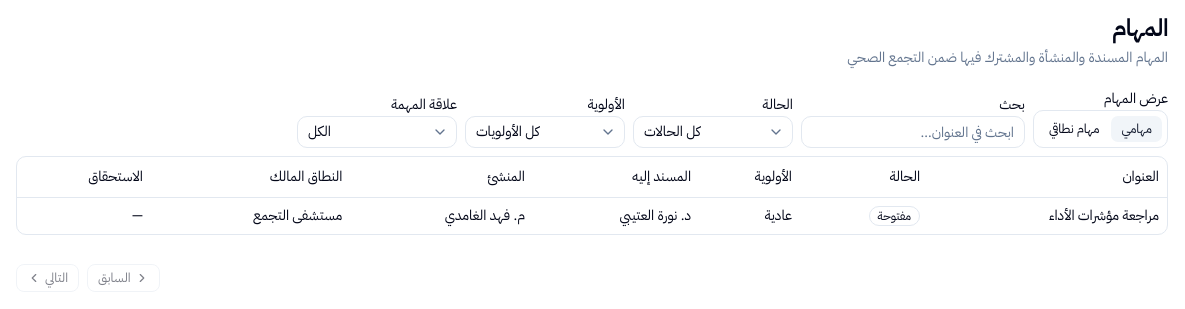
Test: TasksScreen › requests the selected named scope without relationship filters and exposes labels instead of UUIDs
Click the button "مهام نطاقي": click(1074, 129) [1038,115,1110,143]
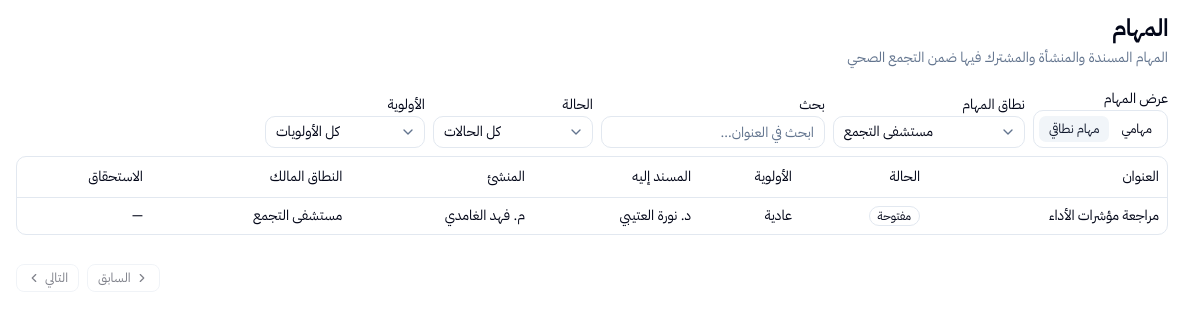
Now the dropdown named "نطاق المهام" reads "مستشفى التجمع"
Click the dropdown named "نطاق المهام": click(929, 132) [833,116,1025,148]
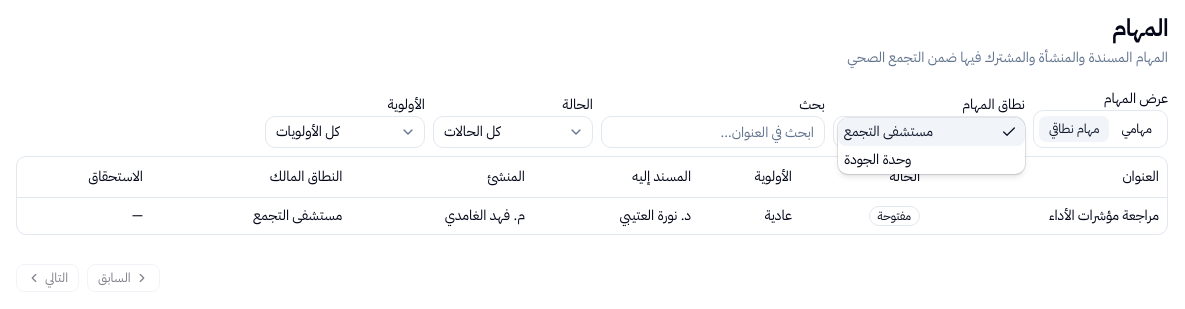
Now the option "وحدة الجودة" is shown, box [844,149,912,170]
